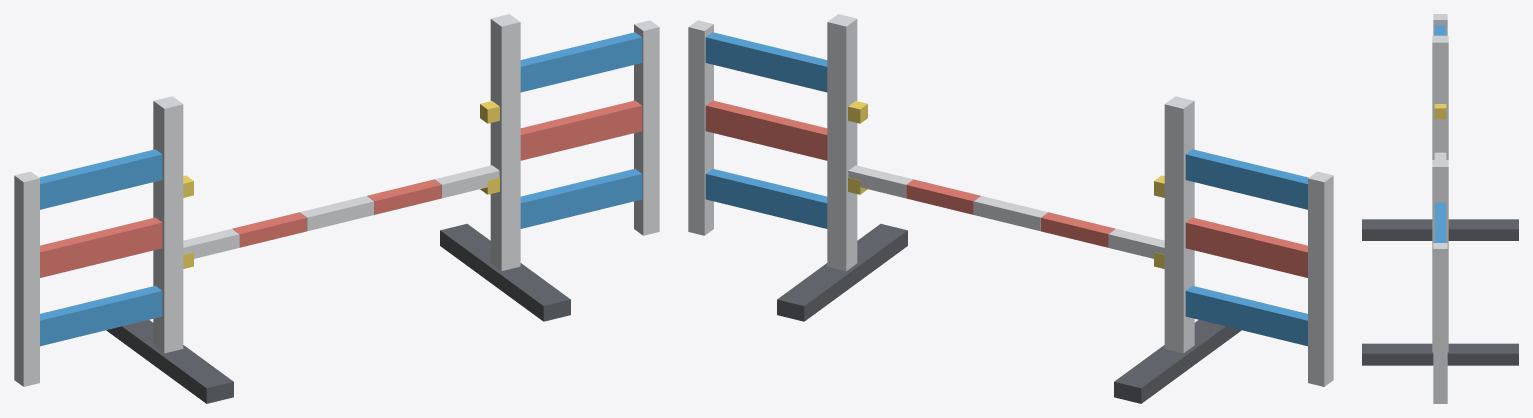
File: dog-agility-and-training-field-hurdle-jump-a24ae81a__35576.glb
3 renders of one model, left to right at view 1: azimuth 30°, elevation 25°; view 2: azimuth 150°, elevation 25°; view 3: azimuth 270°, elevation 25°, orthographic. The views are drawn at different scales.
Visible parts, largest first — view 1: hurdle-jump-steel, hurdle-jump-azure, hurdle-jump-charcoal, hurdle-jump-poppy, bar/steel, bar/poppy, hurdle-jump-sunflower; view 2: hurdle-jump-steel, hurdle-jump-azure, hurdle-jump-charcoal, hurdle-jump-poppy, bar/steel, bar/poppy, hurdle-jump-sunflower; view 3: hurdle-jump-charcoal, hurdle-jump-steel, hurdle-jump-azure, hurdle-jump-sunflower.
Part boxes in pixels (x1,y1,x2,y2): hurdle-jump-steel: (14,14,659,386); hurdle-jump-azure: (39,32,642,346); hurdle-jump-charcoal: (106,224,570,403); hurdle-jump-poppy: (40,100,642,277); bar/steel: (183,165,499,258); bar/poppy: (232,179,441,247); hurdle-jump-sunflower: (183,101,499,268); hurdle-jump-steel: (688,14,1333,386); hurdle-jump-azure: (705,32,1308,346); hurdle-jump-charcoal: (777,224,1241,403); hurdle-jump-poppy: (705,100,1307,277); bar/steel: (848,165,1164,258); bar/poppy: (906,179,1115,247); hurdle-jump-sunflower: (848,101,1164,268); hurdle-jump-charcoal: (1362,219,1518,365); hurdle-jump-steel: (1432,14,1448,403); hurdle-jump-azure: (1435,25,1445,242); hurdle-jump-sunflower: (1434,104,1446,119).
Bounding box in the file's own units: 2.34 × 0.9149 × 0.6599.
